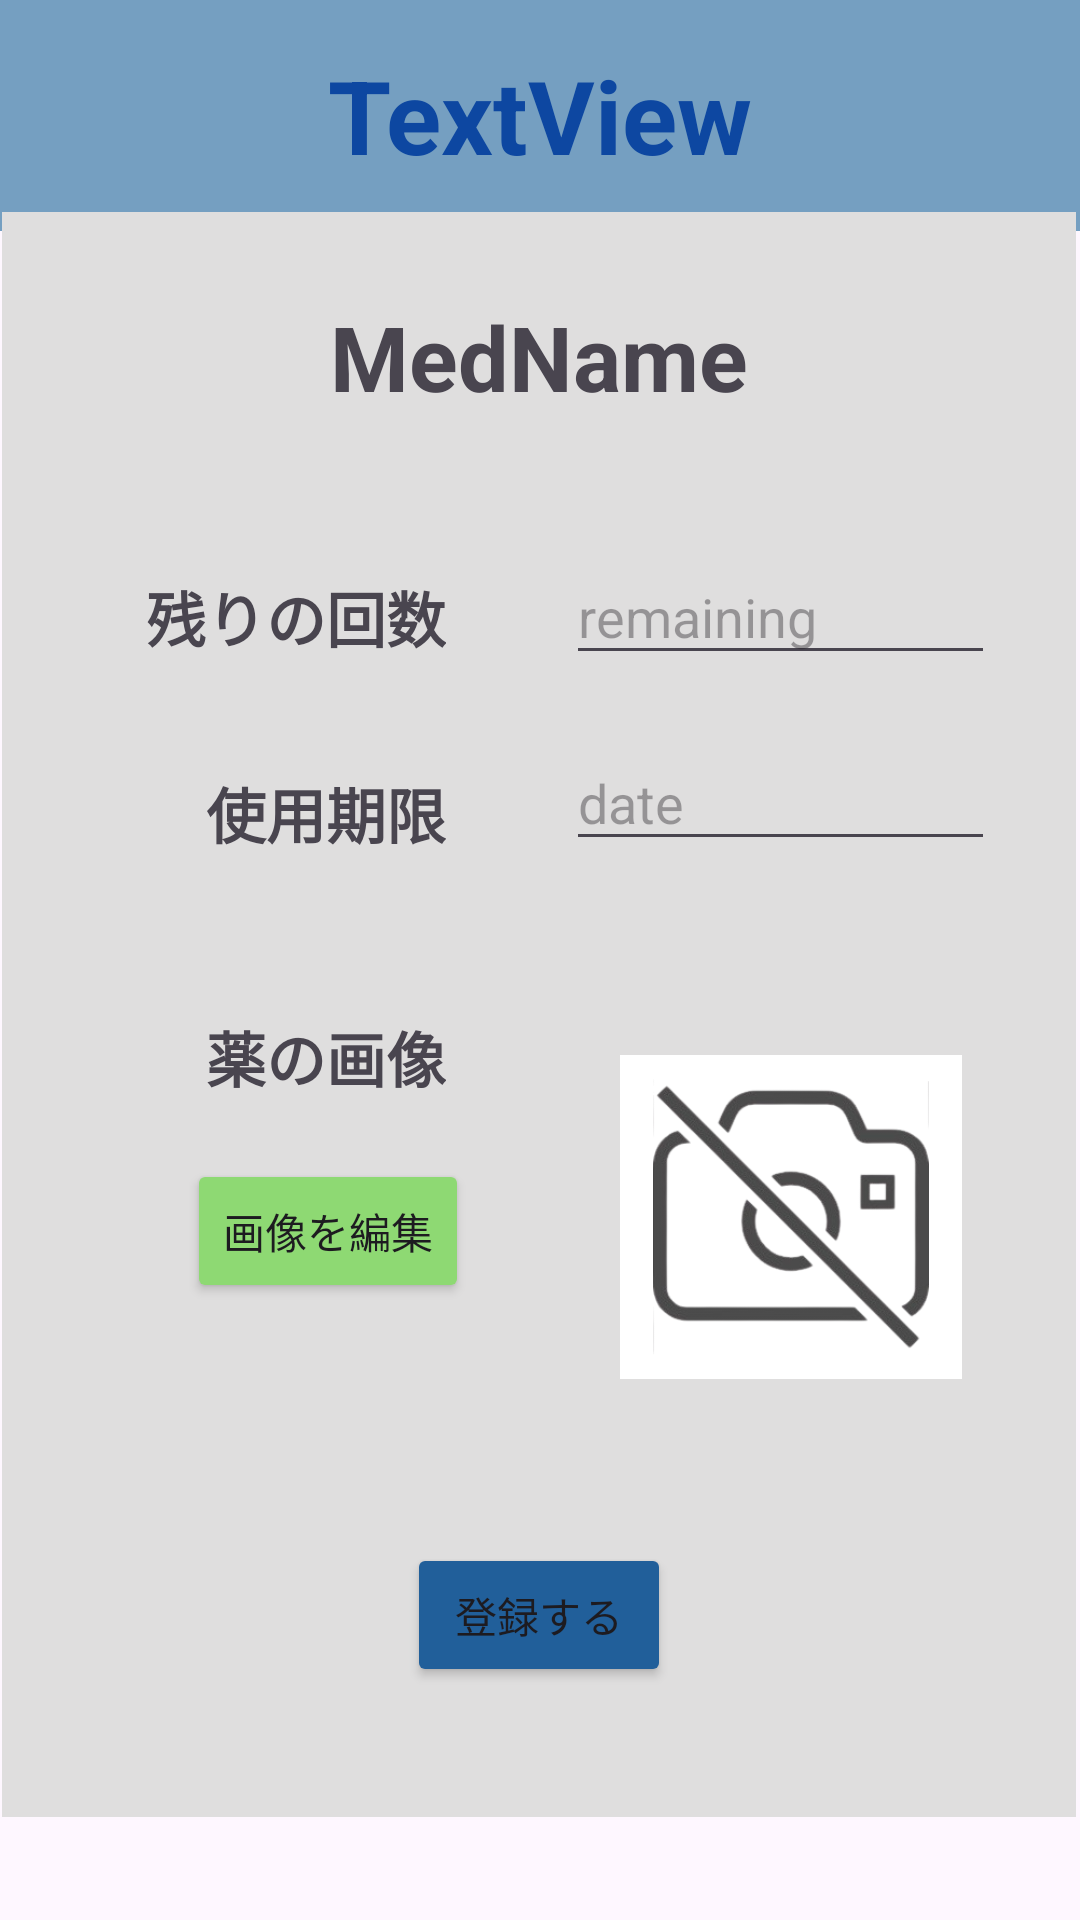

Icon click points for this 1080*1920 phone screenshot, format (x=x, y=y):
noimage: (x=791, y=1217)
